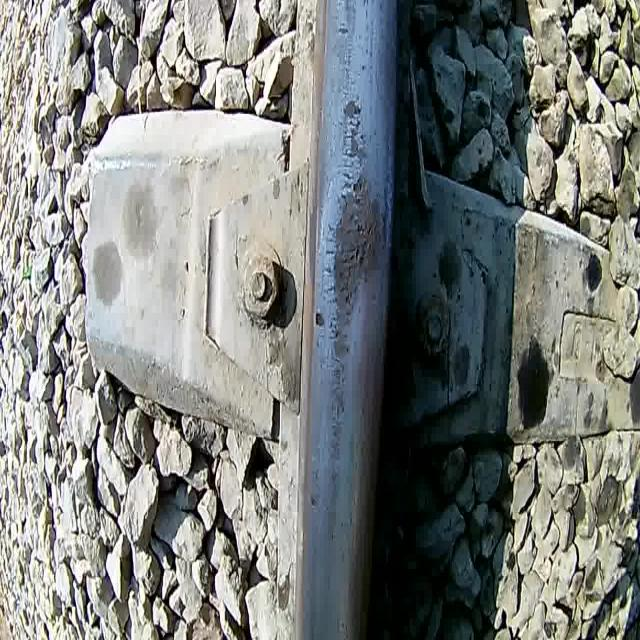Squats: (329, 170, 385, 367), (339, 93, 372, 172), (314, 306, 326, 334)
